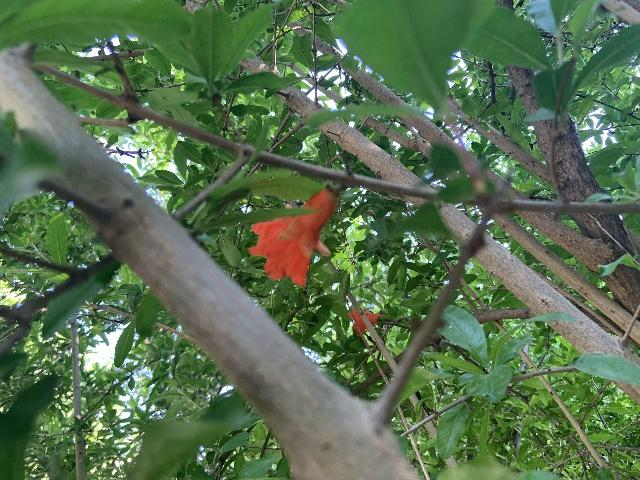flower: (248, 188, 337, 286), (347, 307, 382, 335)
